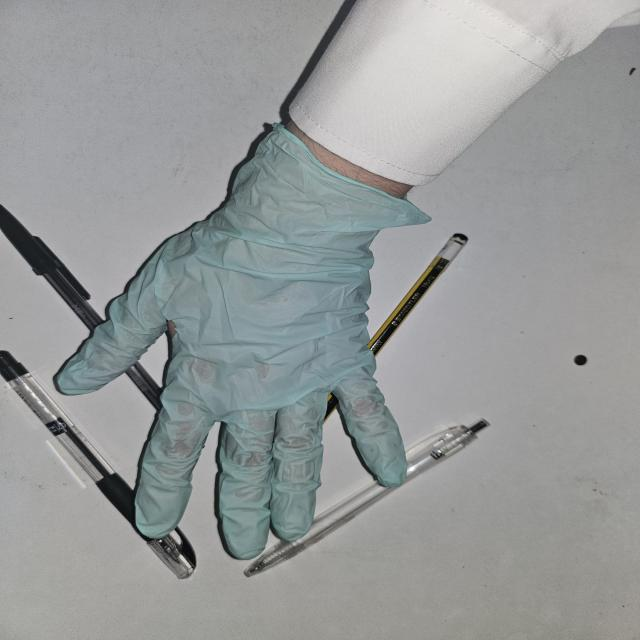gloves_damaged: (50, 123, 430, 563)
